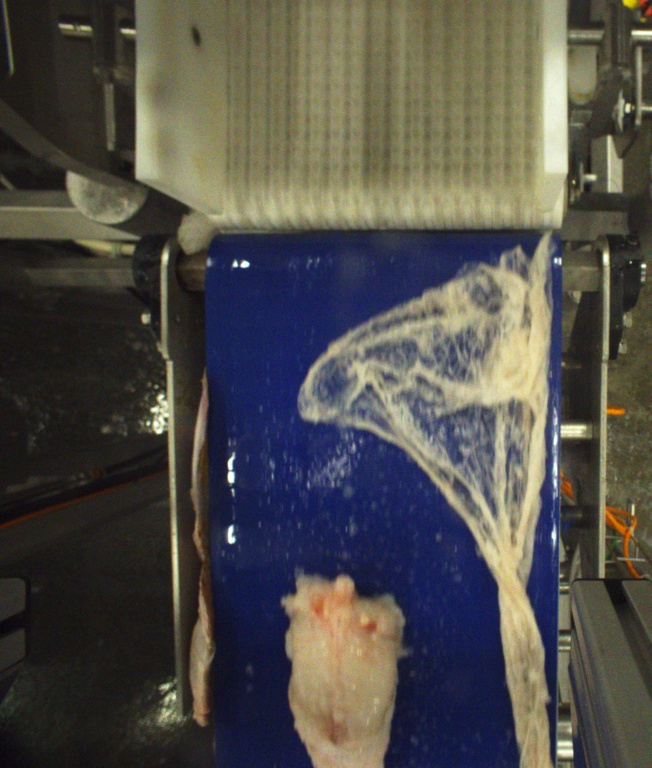ANF: (283, 569, 406, 768)
